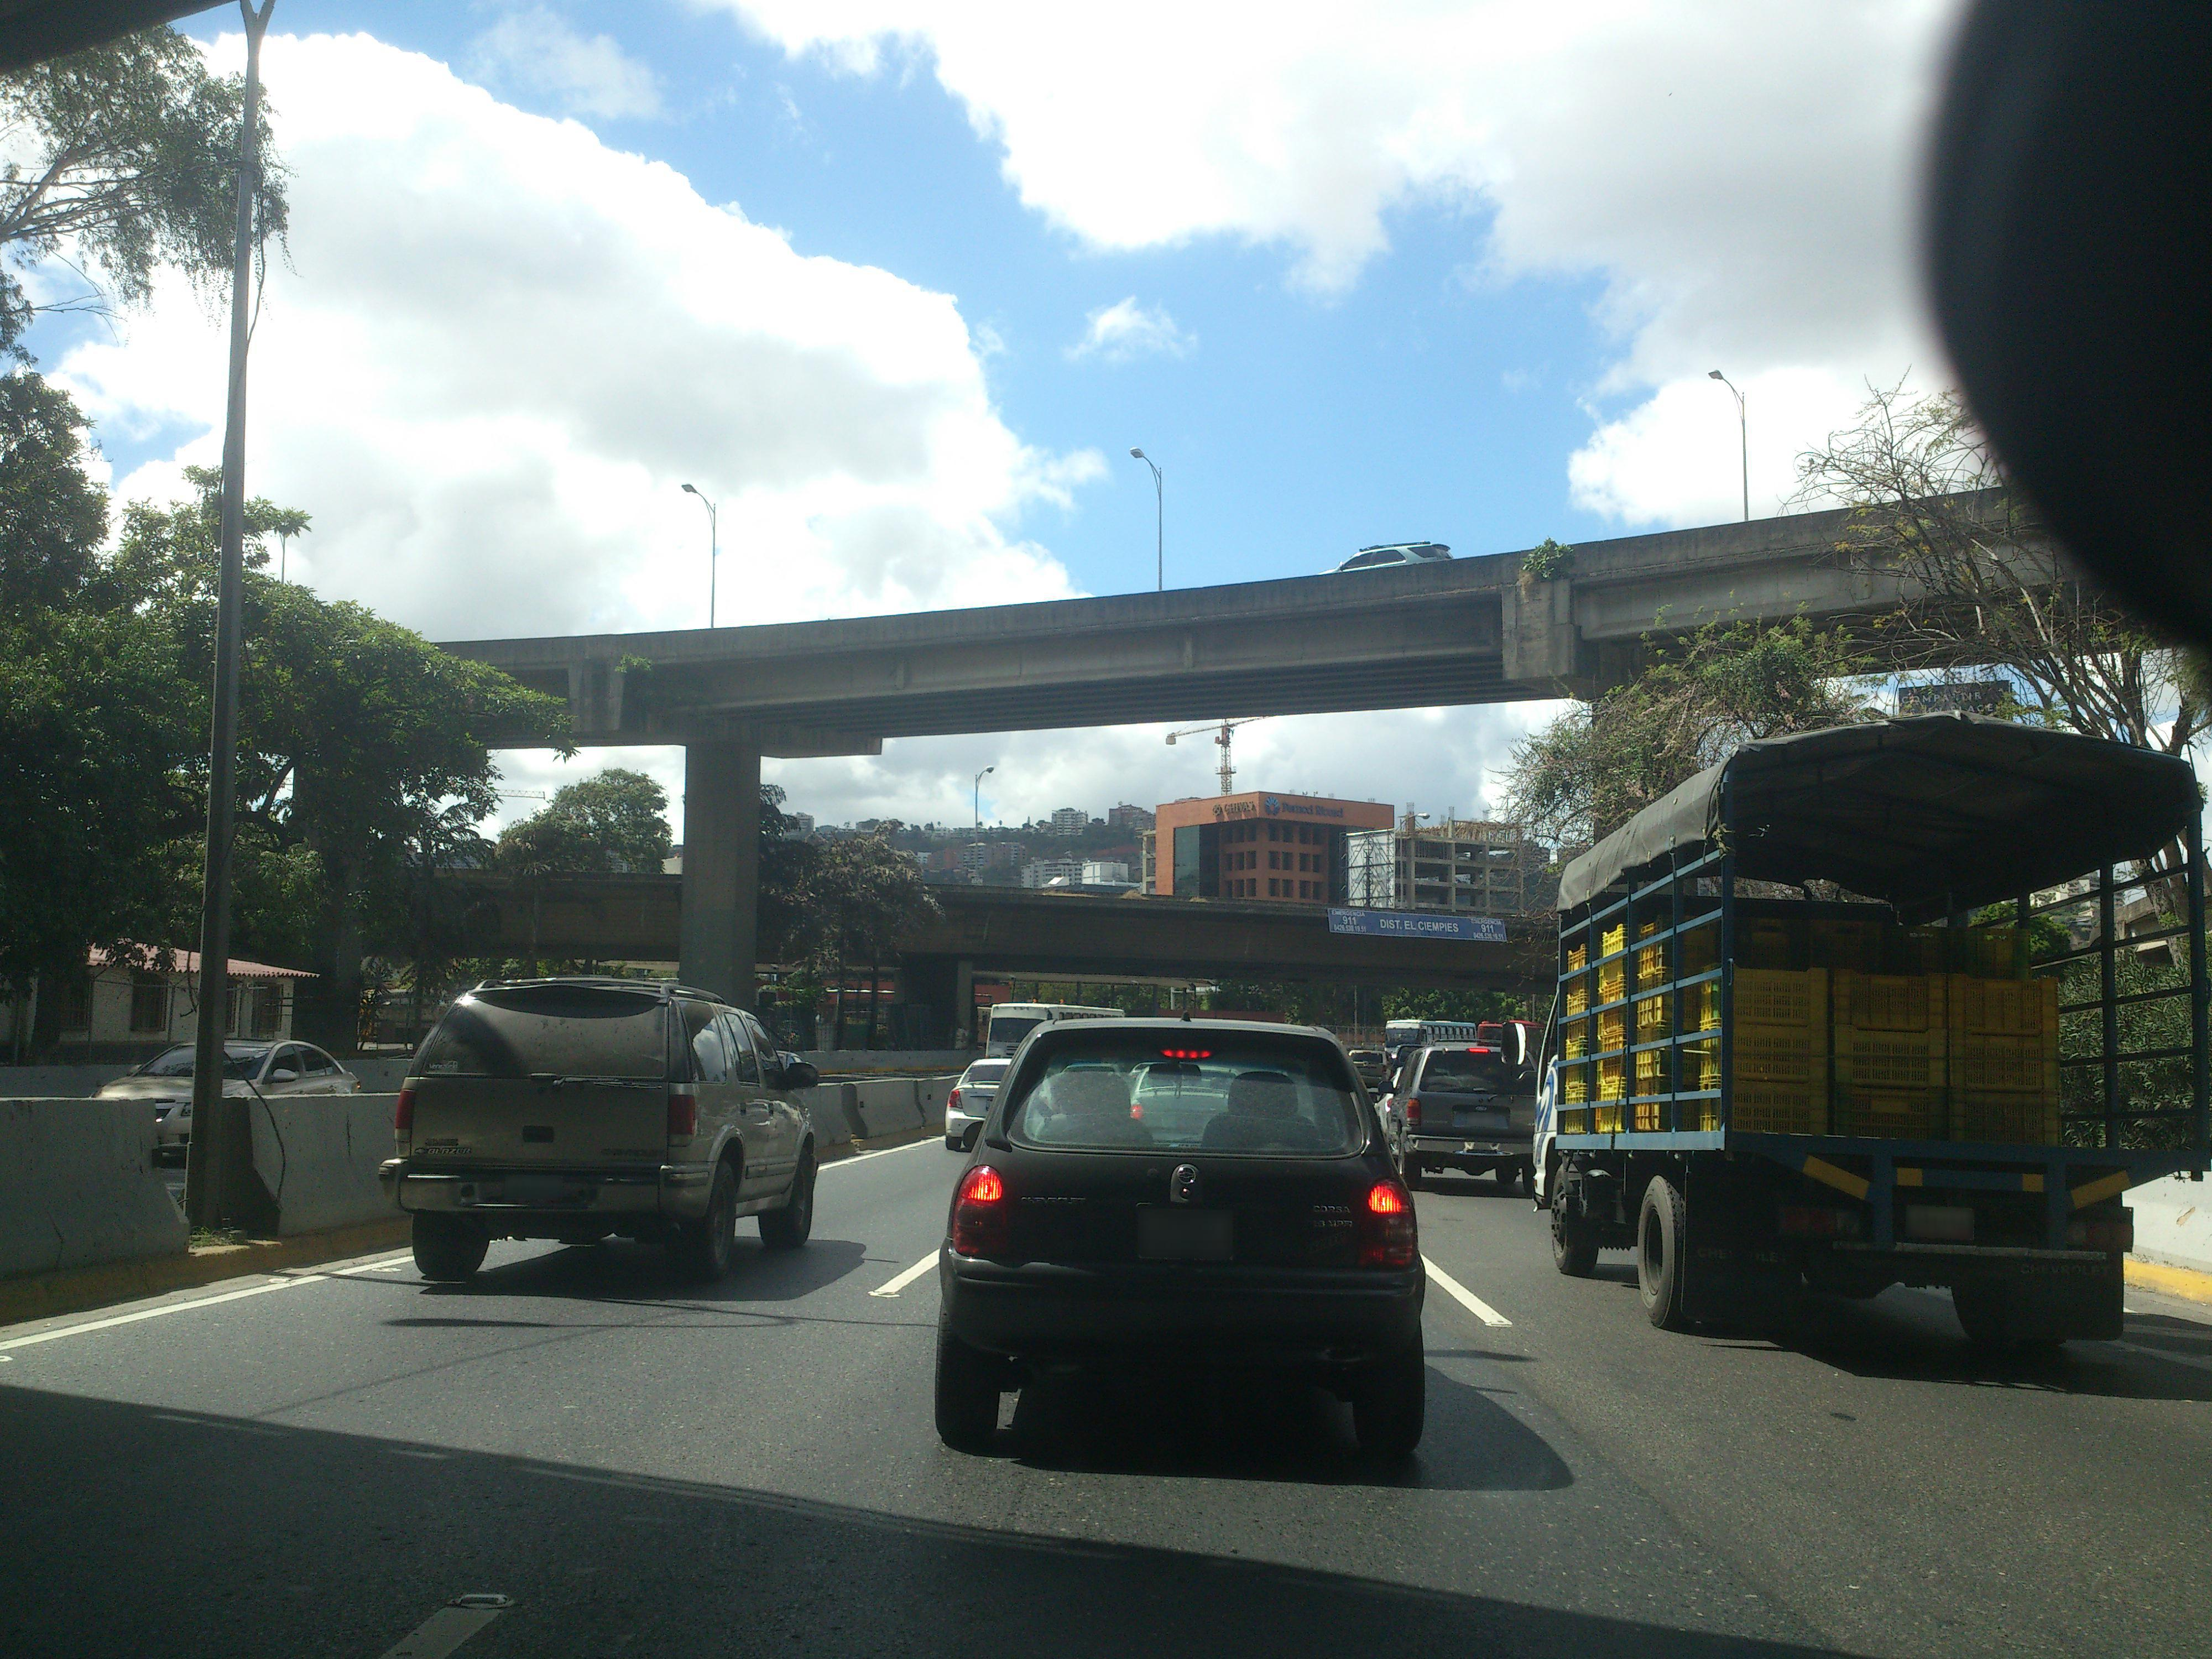vinyl banner: (1334, 892, 1519, 946)
